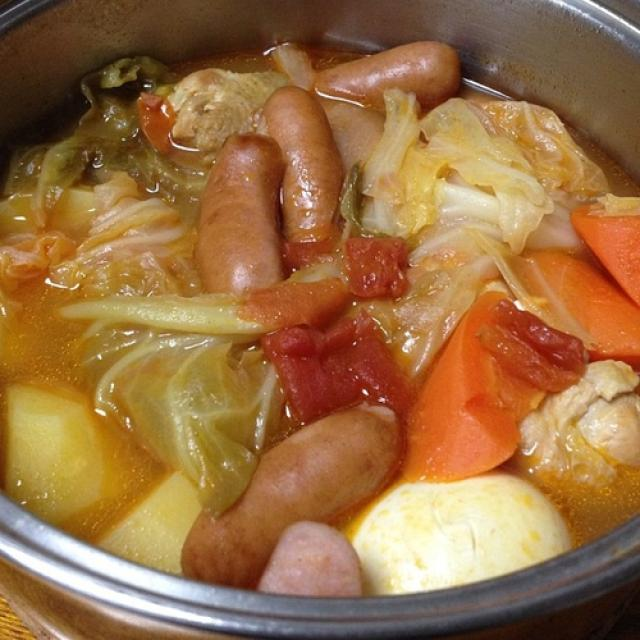汤锅炖物: (9, 20, 634, 621)
